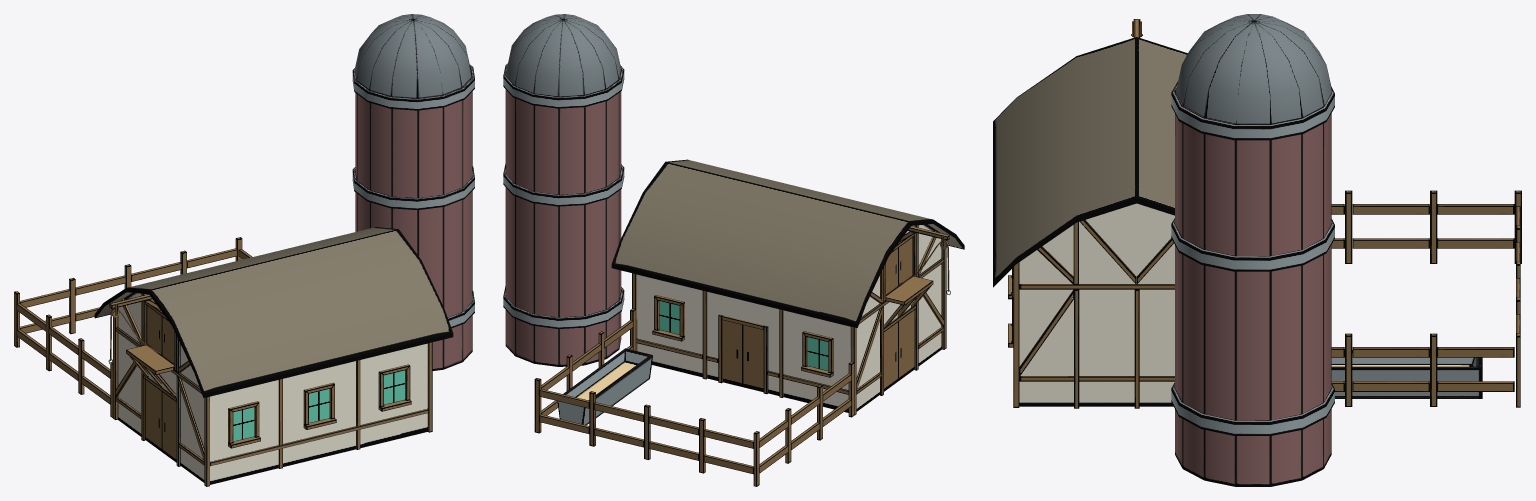
The model's file is SM_Farm.fbx.
3 views of the same model, side by side, from view 1: azimuth 30°, elevation 25°; view 2: azimuth 150°, elevation 25°; view 3: azimuth 270°, elevation 25° (orthographic). The views are drawn at different scales.
Visible parts, largest first — view 1: SM_Farm; view 2: SM_Farm; view 3: SM_Farm.
Boxes of the visible parts, box(x1,y1,x2,y2) form: SM_Farm: box(14, 14, 474, 486); SM_Farm: box(503, 14, 964, 486); SM_Farm: box(993, 14, 1521, 486).
Size of the model in its own units: 391 by 306 by 338.
Materials: 1 (1 with a texture image).
